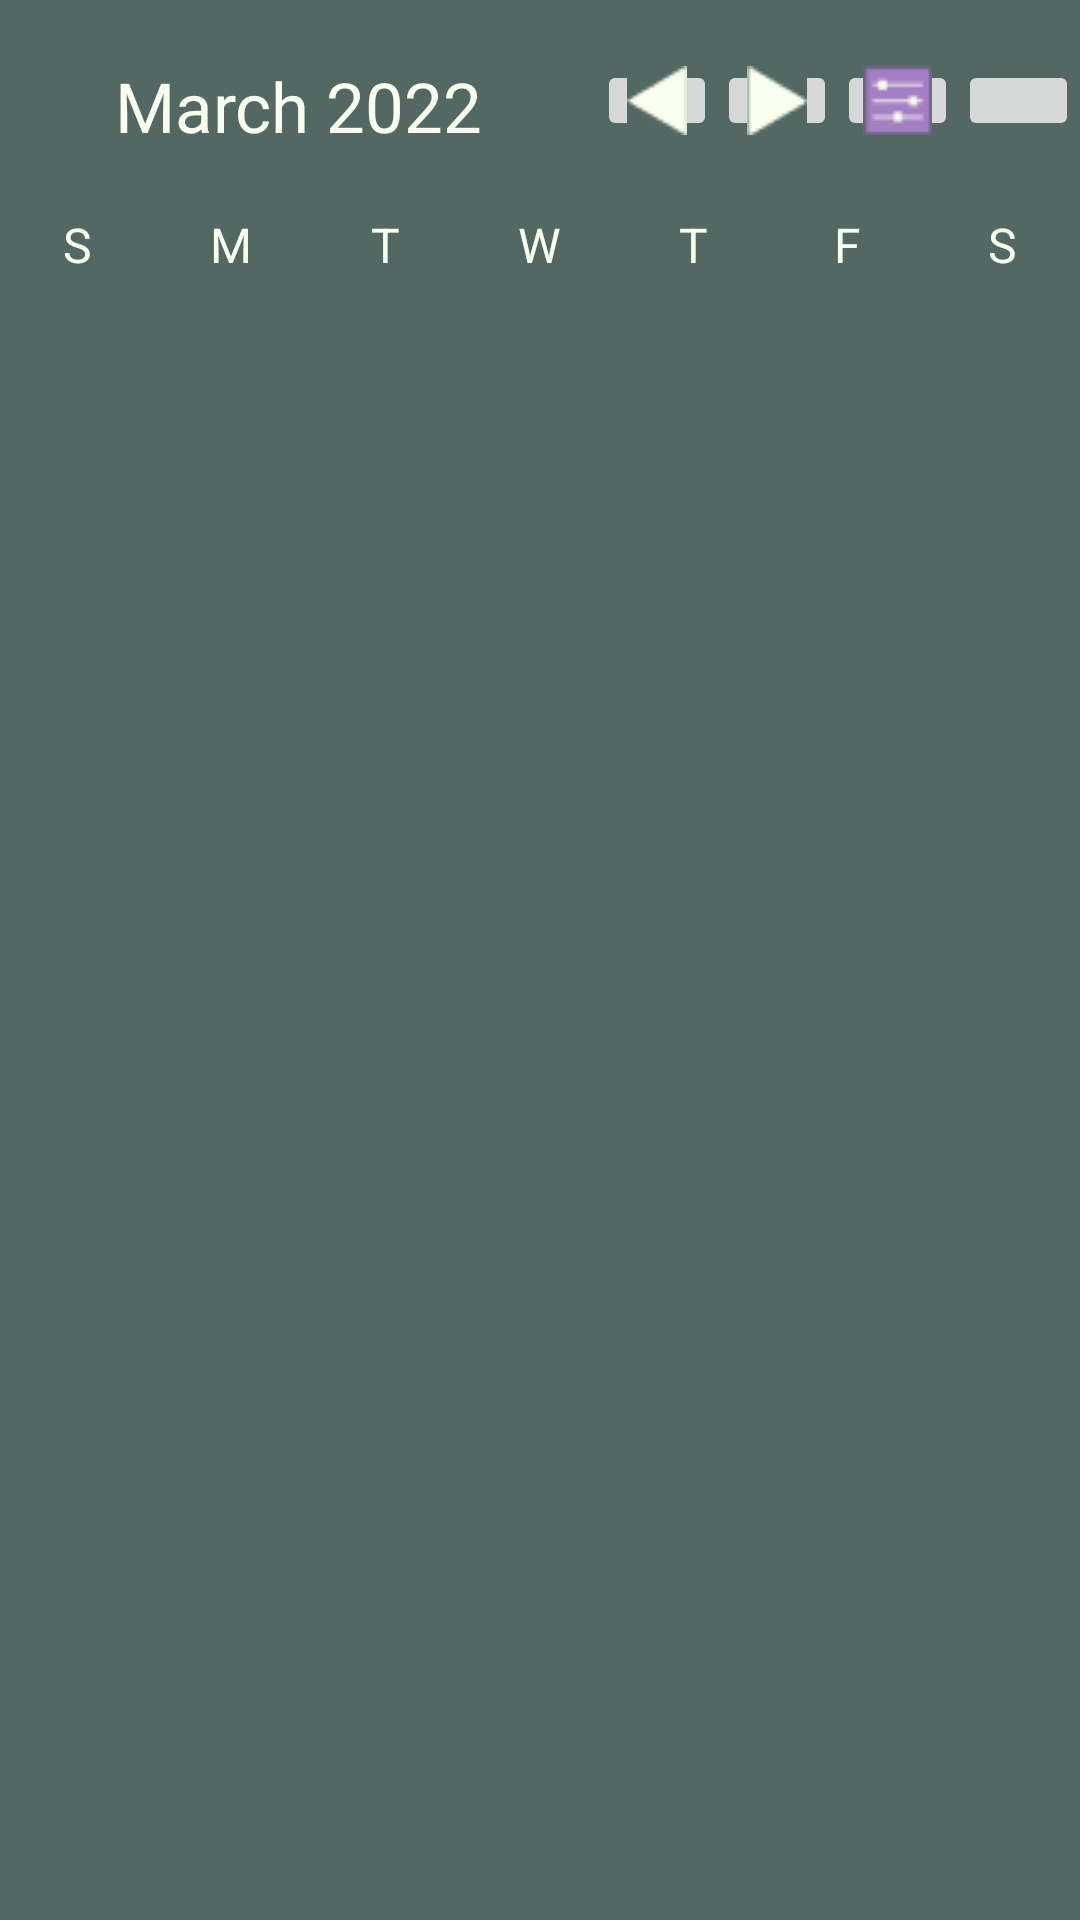

Where to tap for icons on this 1080px x 1920px app screen, as [x,y]:
arrow right: [777,100]
arrows left: [657,100]
